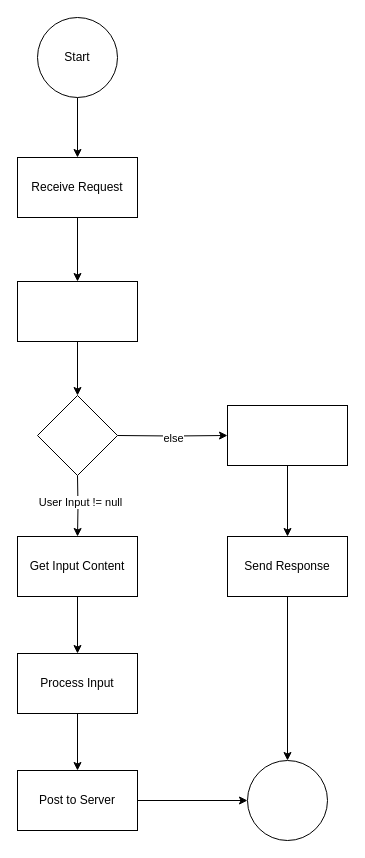
Image size: 365x858. Some labels were removed from this diagram. The shapes that lost their labels are listed below. From the top down, each one's centre as x and y in pixels, then its label:
At point (77, 311): "Extract Request Information".
At point (287, 435): "Process Request".
At point (287, 800): "End".
